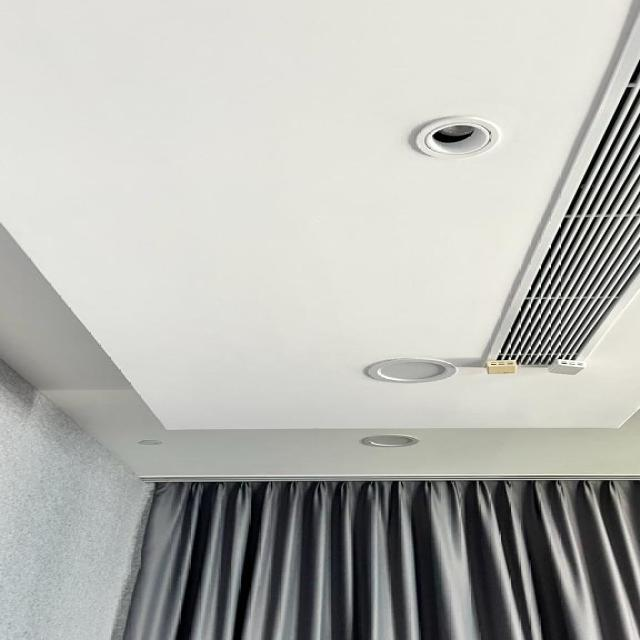Light-Closed: (405, 113, 505, 161), (356, 354, 465, 384), (357, 430, 424, 451), (132, 438, 166, 448)
